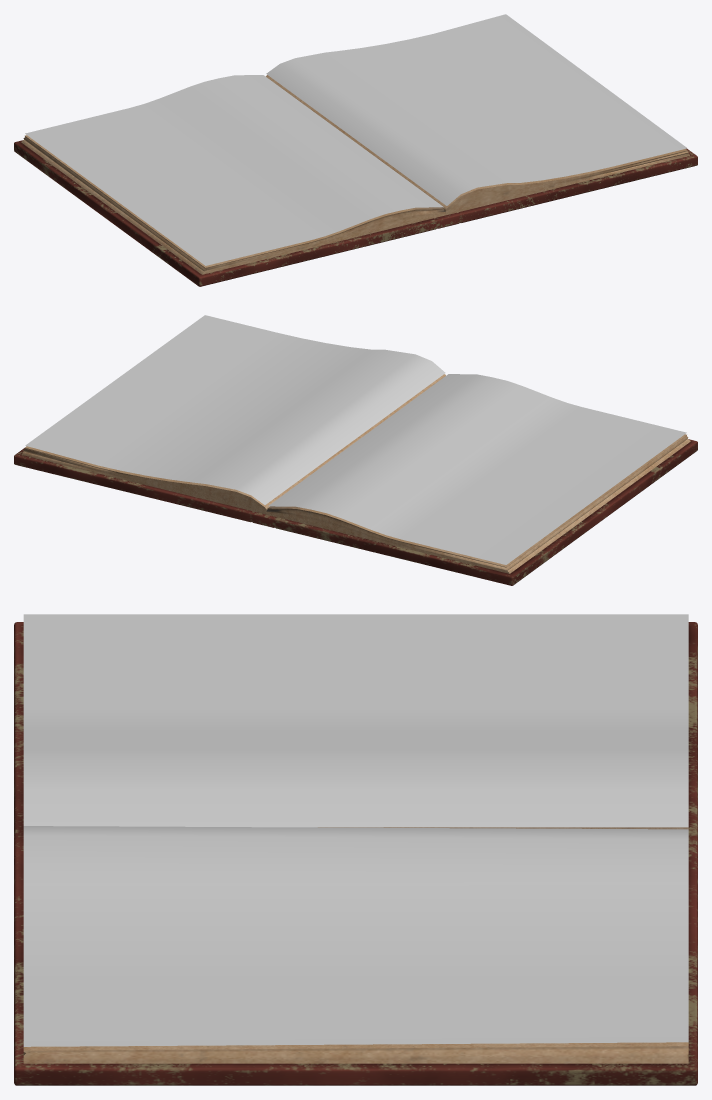
File: contractBook_mesh.fbx
The picture shows the model from 3 angles, top to bottom: view 1: azimuth 30°, elevation 25°; view 2: azimuth 150°, elevation 25°; view 3: azimuth 270°, elevation 25°; orthographic projection. The views are drawn at different scales.
Visible parts, largest first — view 1: Geo_contractBook; view 2: Geo_contractBook; view 3: Geo_contractBook.
Boxes of the visible parts, box(x1,y1,x2,y2) form: Geo_contractBook: box(14, 14, 697, 286); Geo_contractBook: box(14, 315, 697, 585); Geo_contractBook: box(14, 614, 697, 1085).
Size of the model in its own units: 53.63 by 3.06 by 34.6.
